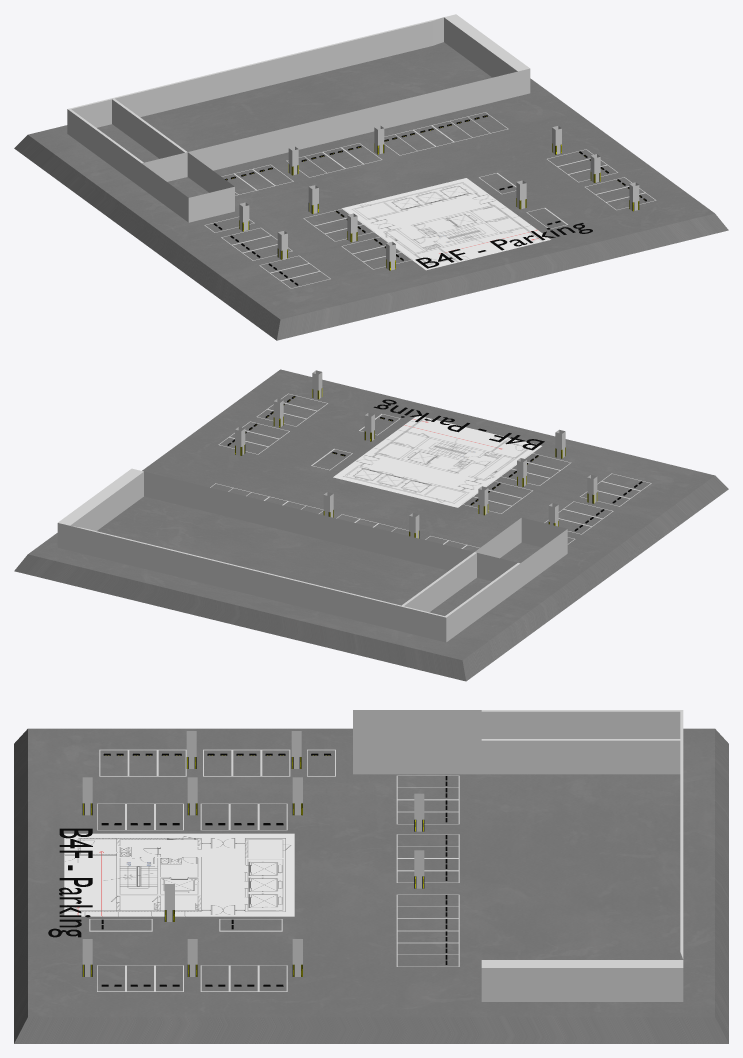
The model's file is 20240530_idis_b4_parking.glb.
3 renders of one model, top to bottom at view 1: azimuth 30°, elevation 25°; view 2: azimuth 150°, elevation 25°; view 3: azimuth 270°, elevation 25°, orthographic. The views are drawn at different scales.
Visible parts, largest first — view 1: 평면, area_car1.001, b2f, BL|맨홀_curve_.012, BL|맨홀_curve_.005, 텍스트, area_car1, BL|맨홀_curve_.011, BL|맨홀_curve_.004, area_car1.002; view 2: 평면, area_car1.001, b2f, BL|맨홀_curve_.005, BL|맨홀_curve_.012, 텍스트, area_car1, BL|맨홀_curve_.004, area_car1.010, area_car1.002, BL|맨홀_curve_.011; view 3: 평면, area_car1.001, b2f, 텍스트, area_car1, BL|맨홀_curve_.012, BL|맨홀_curve_.005, area_car1.010, area_car1.002, BL|맨홀_curve_.011, BL|맨홀_curve_.004, area_car1.007 (+2 smaller).
Boxes of the visible parts, x1,y1,x2,y2 form: 평면: (14,42,728,340); area_car1.001: (67,14,530,222); b2f: (341,178,550,270); BL|맨홀_curve_.012: (308,185,395,270); BL|맨홀_curve_.005: (552,125,639,211); 텍스트: (415,223,592,268); area_car1: (204,216,330,288); BL|맨홀_curve_.011: (288,125,384,175); BL|맨홀_curve_.004: (239,202,287,259); area_car1.002: (547,149,656,210); 평면: (14,369,728,681); area_car1.001: (57,468,567,642); b2f: (333,416,541,507); BL|맨홀_curve_.005: (235,370,322,455); BL|맨홀_curve_.012: (478,429,565,515); 텍스트: (373,399,544,450); area_car1: (544,473,651,544); BL|맨홀_curve_.004: (548,475,597,526); area_car1.010: (461,453,571,513); area_car1.002: (218,393,327,454); BL|맨홀_curve_.011: (323,492,419,538); 평면: (14,728,728,1043); area_car1.001: (353,710,683,1001); b2f: (64,833,294,916); 텍스트: (48,828,92,937); area_car1: (99,749,335,776); BL|맨홀_curve_.012: (82,777,302,815); BL|맨홀_curve_.005: (82,939,302,976); area_car1.010: (97,803,287,830); area_car1.002: (97,965,287,991); BL|맨홀_curve_.011: (414,793,424,888); BL|맨홀_curve_.004: (186,731,301,768); area_car1.007: (396,775,459,824).
Size of the model in its own units: 56.24 by 5.07 by 56.61.
8 materials, 3 textured.
